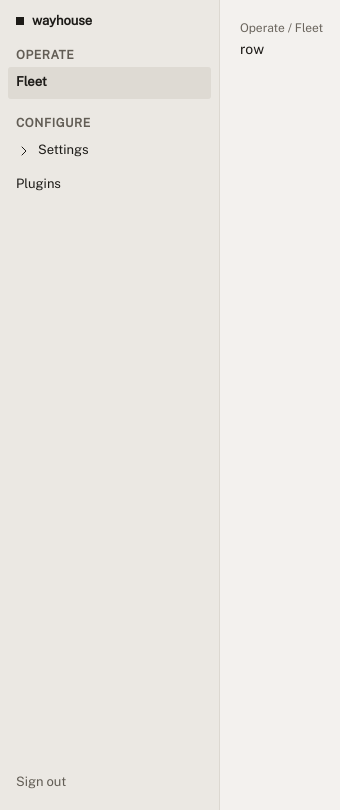
Test: navigation › a parent with children toggles in place and shows only the children the role may use
Click the button "Settings" at (110, 151), box [8,135,211,167]
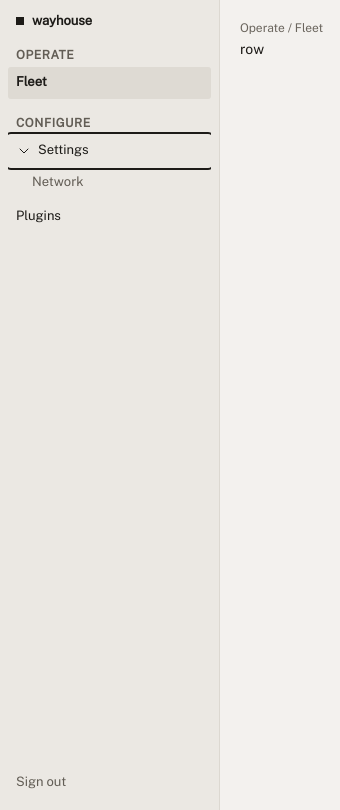
Check: the link "Network" is shown, box [32,174,84,189]
